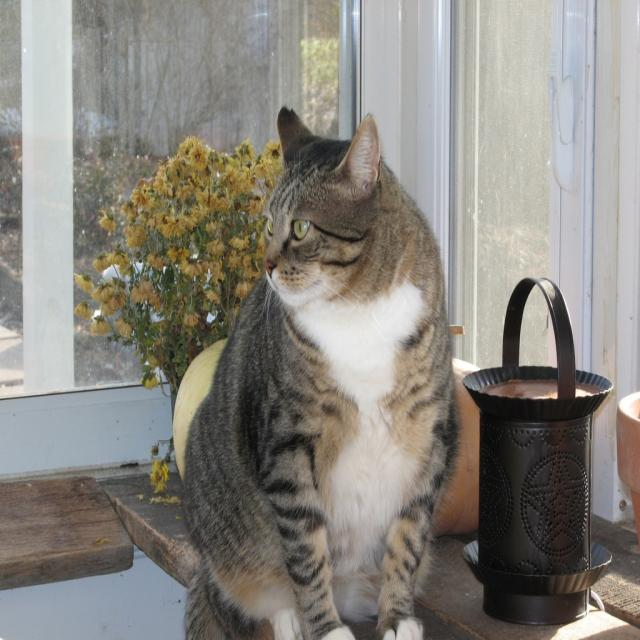Cat: (175, 101, 462, 638)
